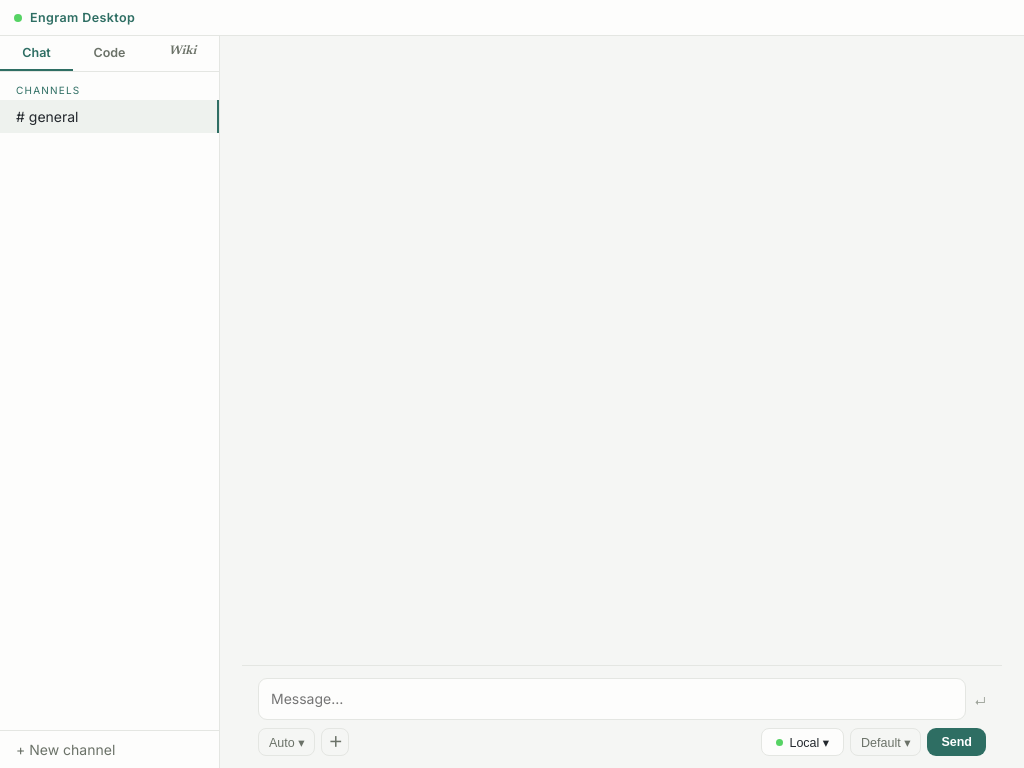
생성 중지(Task 4) — 버튼 스왑·Esc·중복 클릭 방지 › 대기 중엔 보내기 버튼이 중지(■) 버튼으로 바뀐다
This screenshot has width=1024, height=768.
Expected: the text "# general" is shown, [16,108,78,125]
Type "질문" into the text box with placeholder "Message…".
click(612, 699); type("질문")  # box [258,678,966,720]
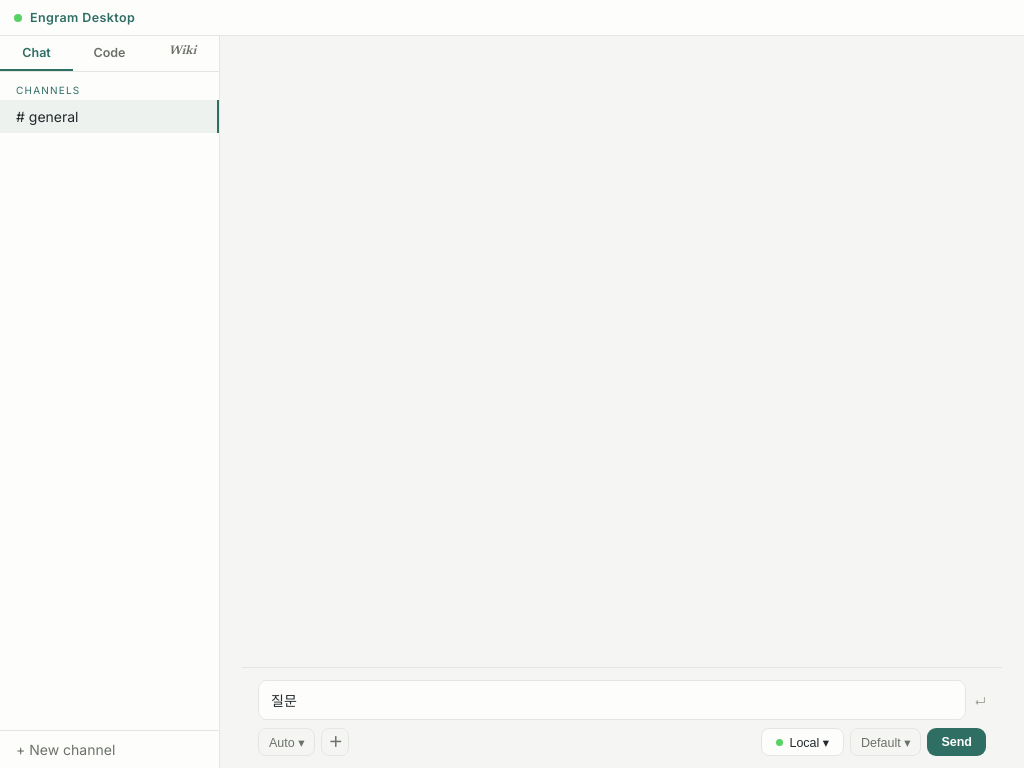
Press Enter in the text box, box [258,680,966,720]
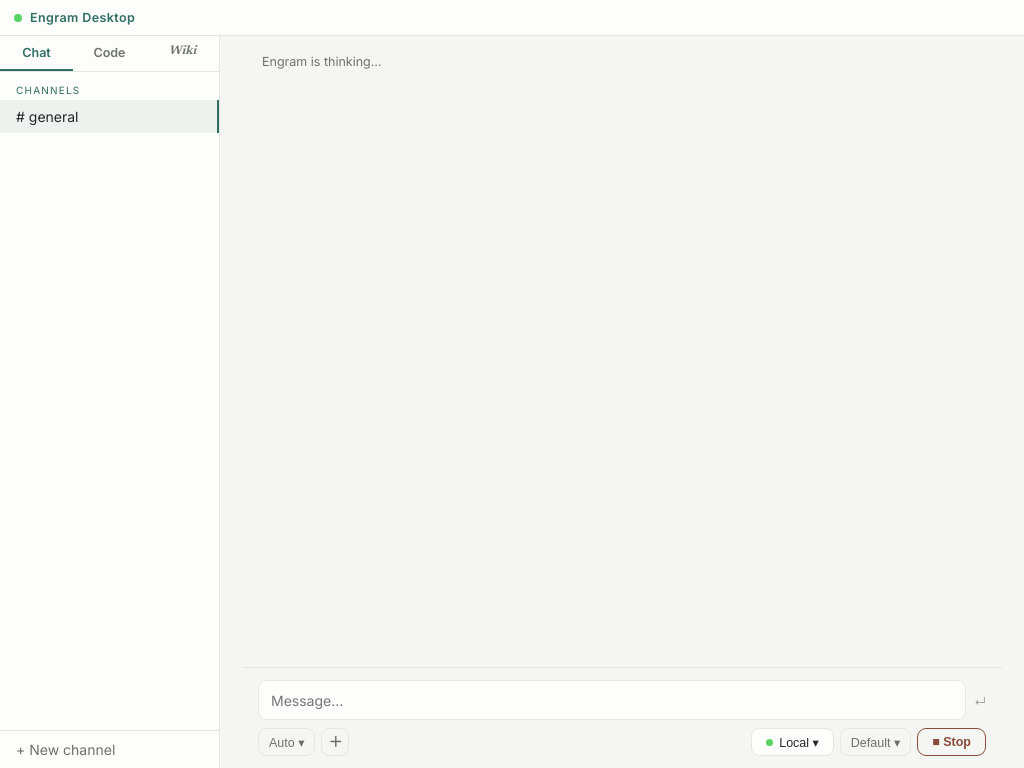
Expected: the text "Engram is thinking" is shown, [262,54,371,69]
Expected: the button "Send" is gone
